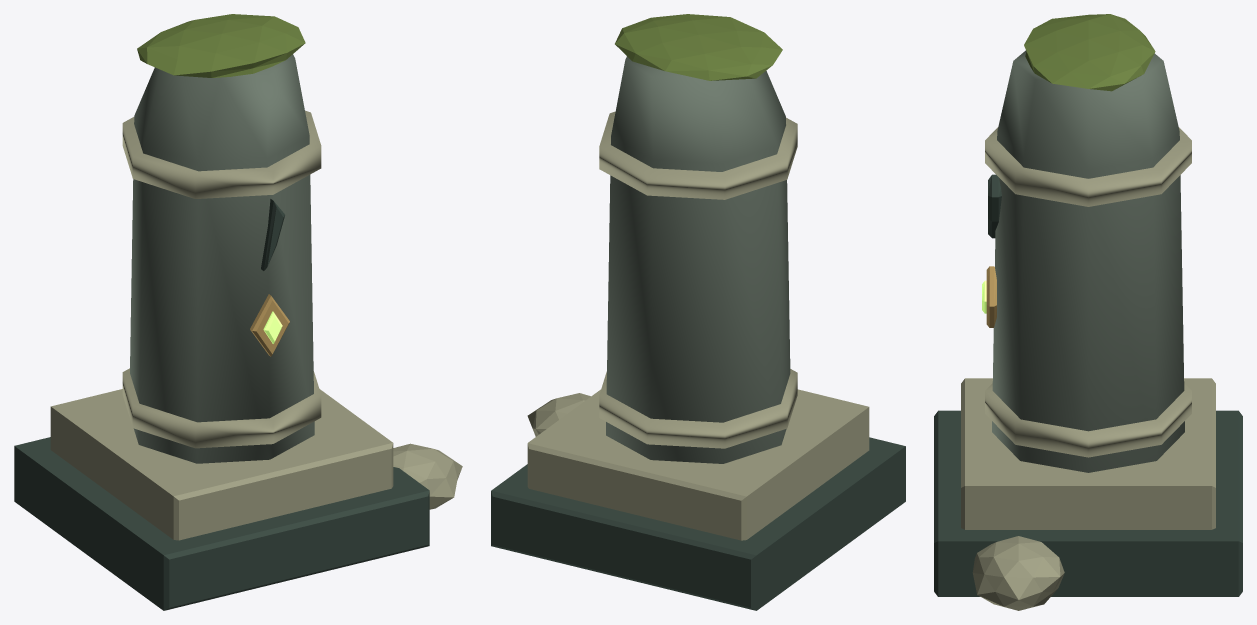
Rendered from broken_pillar.glb.
3 views of the same model, side by side, from view 1: azimuth 30°, elevation 25°; view 2: azimuth 150°, elevation 25°; view 3: azimuth 270°, elevation 25° (orthographic).
Parts seen in each view (by area): view 1: stone_186, darkStone_184, lightStone_185, moss_193, lightStone_188, lightStone_187, lightStone_194, gold_191, darkStone_189; view 2: stone_186, darkStone_184, lightStone_185, moss_193, lightStone_188, lightStone_187, lightStone_194; view 3: stone_186, darkStone_184, lightStone_185, moss_193, lightStone_188, lightStone_187, lightStone_194, darkStone_189, gold_191.
Boxes of the visible parts, bbox=[...] form: stone_186: bbox=[130, 54, 314, 463]; darkStone_184: bbox=[14, 437, 429, 610]; lightStone_185: bbox=[50, 389, 393, 540]; moss_193: bbox=[137, 14, 305, 77]; lightStone_188: bbox=[122, 110, 321, 198]; lightStone_187: bbox=[122, 368, 321, 448]; lightStone_194: bbox=[393, 443, 462, 509]; gold_191: bbox=[250, 294, 289, 356]; darkStone_189: bbox=[261, 199, 284, 270]; stone_186: bbox=[606, 56, 790, 463]; darkStone_184: bbox=[491, 437, 905, 610]; lightStone_185: bbox=[527, 389, 869, 540]; moss_193: bbox=[615, 14, 782, 80]; lightStone_188: bbox=[599, 111, 797, 199]; lightStone_187: bbox=[599, 369, 797, 448]; lightStone_194: bbox=[527, 393, 590, 436]; stone_186: bbox=[992, 50, 1184, 472]; darkStone_184: bbox=[934, 410, 1242, 596]; lightStone_185: bbox=[961, 378, 1215, 529]; moss_193: bbox=[1024, 14, 1155, 91]; lightStone_188: bbox=[985, 127, 1191, 206]; lightStone_187: bbox=[985, 383, 1191, 457]; lightStone_194: bbox=[972, 536, 1064, 610]; darkStone_189: bbox=[988, 174, 1001, 238]; gold_191: bbox=[986, 266, 996, 327].
Size of the model in its own units: 1.47 by 2.03 by 1.15.
